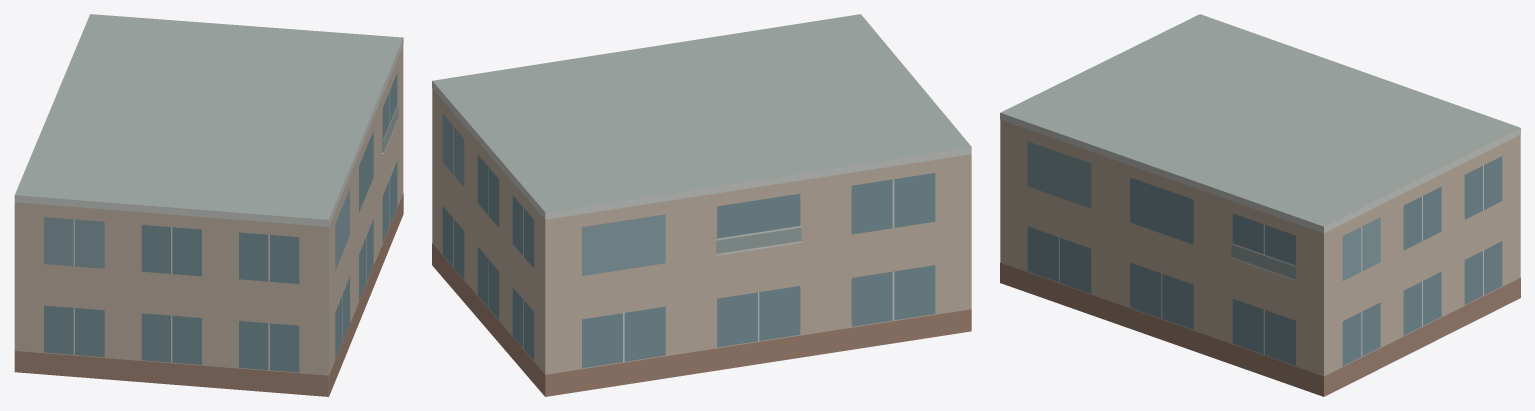
Rendered from survey-upis-32661969.glb.
The picture shows the model from 3 angles, left to right: view 1: azimuth 30°, elevation 25°; view 2: azimuth 150°, elevation 25°; view 3: azimuth 270°, elevation 25°; orthographic projection. The views are drawn at different scales.
Visible parts, largest first — view 1: survey-upis-32661969.tmp; view 2: survey-upis-32661969.tmp; view 3: survey-upis-32661969.tmp.
Boxes of the visible parts, x1,y1,x2,y2 form: survey-upis-32661969.tmp: (14,14,403,396); survey-upis-32661969.tmp: (432,14,971,396); survey-upis-32661969.tmp: (1000,14,1520,396).
Size of the model in its own units: 16.36 by 6.1 by 16.92.
